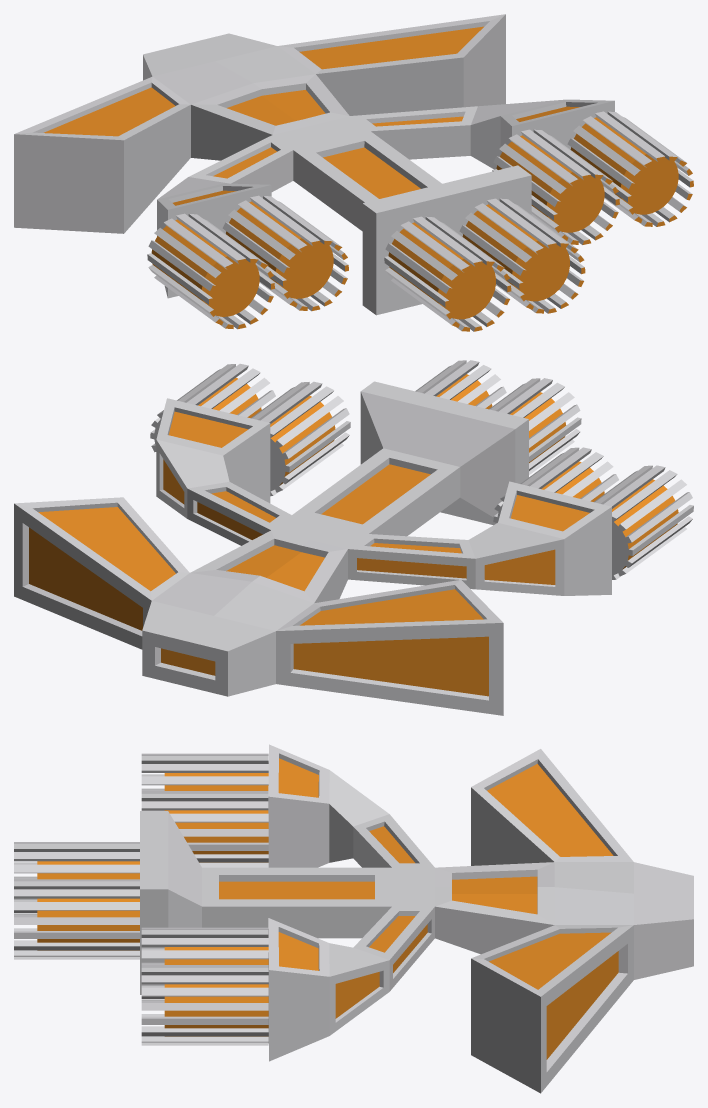
File: Ship_L4_Struthio.fbx
The picture shows the model from 3 angles, top to bottom: view 1: azimuth 30°, elevation 25°; view 2: azimuth 150°, elevation 25°; view 3: azimuth 270°, elevation 25°; orthographic projection. The views are drawn at different scales.
Parts seen in each view (by area): view 1: BattleShip4, Engine.004, Engine.006, Engine.001, Engine.005, Engine.007, Engine; view 2: BattleShip4, Engine.004, Engine, Engine.006, Engine.001, Engine.005, Engine.007; view 3: BattleShip4, Engine.001, Engine.007, Engine.005, Engine, Engine.006, Engine.004.
Part boxes in pixels (left/top/right/bottom): BattleShip4: left=14, top=14, right=614, bottom=315; Engine.004: left=147, top=213, right=274, bottom=329; Engine.006: left=384, top=216, right=511, bottom=331; Engine.001: left=567, top=111, right=693, bottom=226; Engine.005: left=222, top=195, right=348, bottom=311; Engine.007: left=459, top=198, right=585, bottom=313; Engine: left=492, top=129, right=619, bottom=244; BattleShip4: left=14, top=381, right=611, bottom=715; Engine.004: left=594, top=465, right=693, bottom=579; Engine: left=251, top=381, right=350, bottom=496; Engine.006: left=489, top=378, right=581, bottom=474; Engine.001: left=150, top=363, right=275, bottom=452; Engine.005: left=493, top=447, right=618, bottom=522; Engine.007: left=415, top=360, right=506, bottom=409; BattleShip4: left=140, top=744, right=693, bottom=1093; Engine.001: left=141, top=965, right=268, bottom=1045; Engine.007: left=14, top=879, right=139, bottom=959; Engine.005: left=141, top=791, right=268, bottom=867; Engine: left=141, top=927, right=268, bottom=999; Engine.006: left=14, top=842, right=139, bottom=913; Engine.004: left=141, top=753, right=268, bottom=810.
Size of the model in its own units: 56890 by 12742 by 65862.
